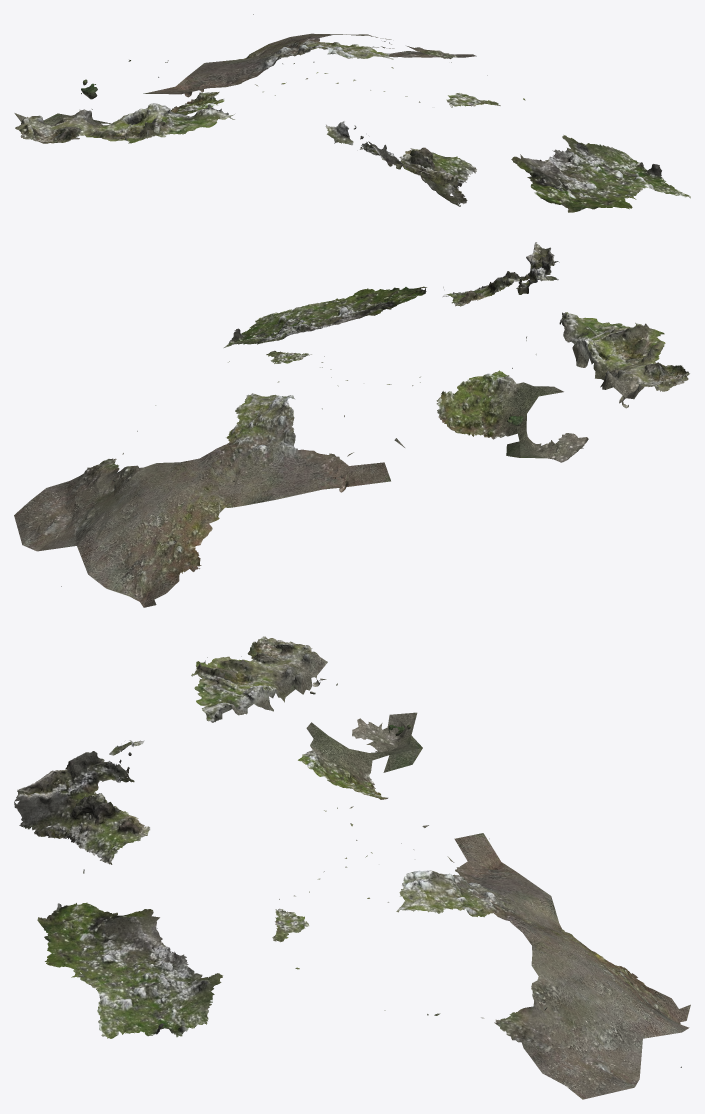
3 views of the same model, one above another, from view 1: azimuth 30°, elevation 25°; view 2: azimuth 150°, elevation 25°; view 3: azimuth 270°, elevation 25° (orthographic). The views are drawn at different scales.
Size of the model in its own units: 60.74 by 21.7 by 61.05.
Materials: 1 (1 with a texture image).
